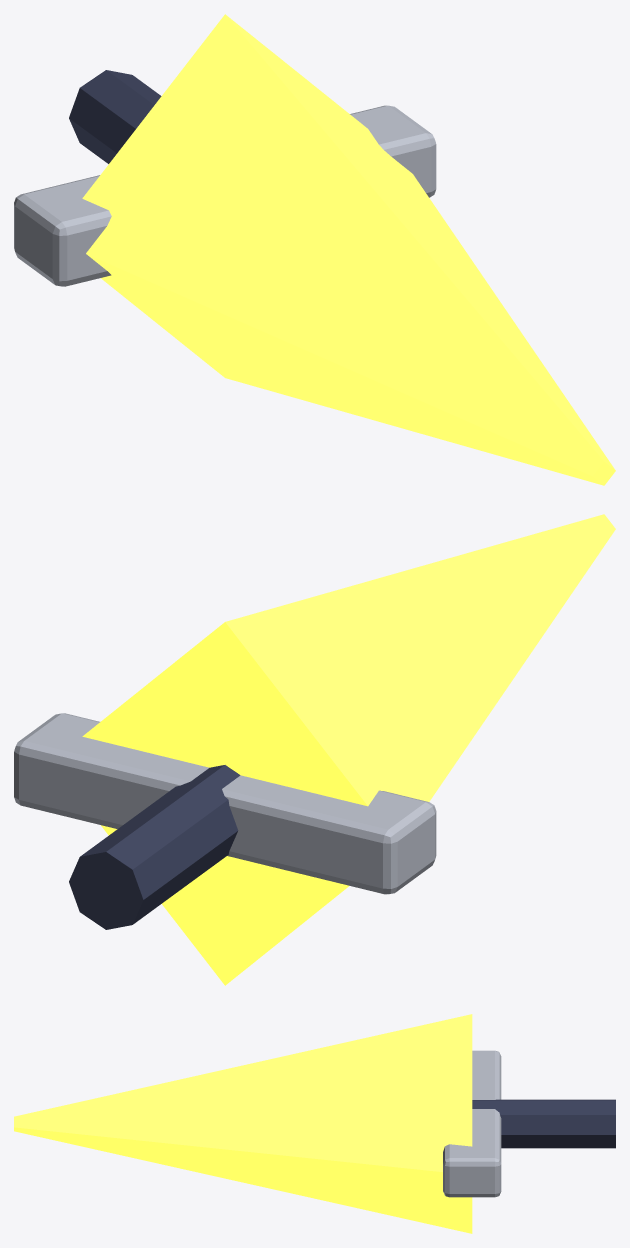
Rendered from SM_Riven_BrokenBlade.fbx.
3 renders of one model, top to bottom at view 1: azimuth 30°, elevation 25°; view 2: azimuth 150°, elevation 25°; view 3: azimuth 270°, elevation 25°, orthographic. The views are drawn at different scales.
Parts seen in each view (by area): view 1: SM_Riven_BrokenBlade; view 2: SM_Riven_BrokenBlade; view 3: SM_Riven_BrokenBlade.
Part boxes in pixels (x1=…): SM_Riven_BrokenBlade: x1=14, y1=14, x2=615, y2=485; SM_Riven_BrokenBlade: x1=14, y1=514, x2=615, y2=985; SM_Riven_BrokenBlade: x1=14, y1=1014, x2=615, y2=1233.
Size of the model in its own units: 29.7 by 67 by 27.
